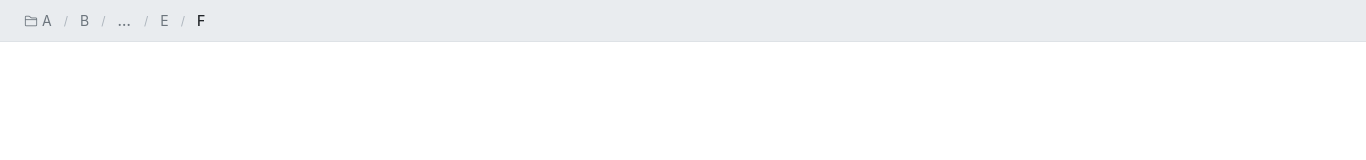
Test: Breadcrumb › Escape closes dropdown
This screenshot has width=1366, height=160.
Step 1. Click the button "…" → (125, 20), box [118,12,132,29]
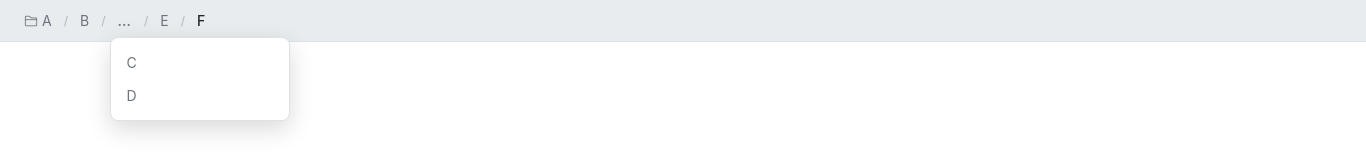
Expected: the text "C" is shown, [126,54,137,71]
Step 2. Press Escape
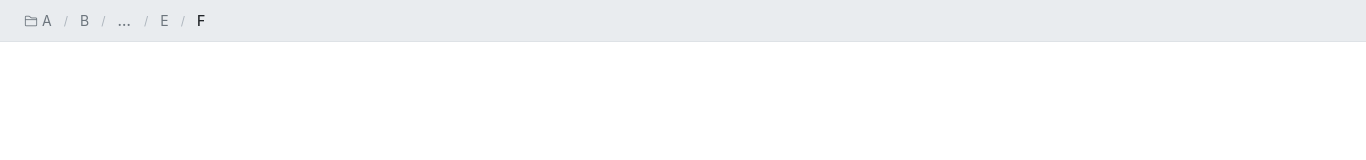
Expected: the text "C" is gone
